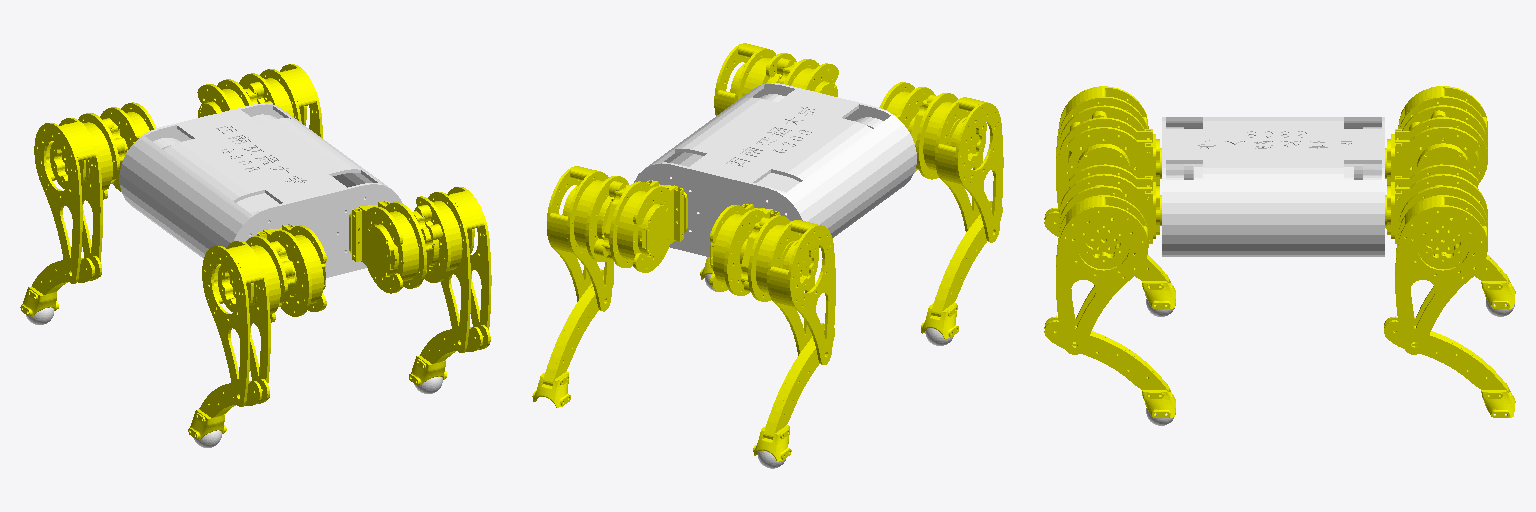
The robot description file, URDF, robot "g308_test4":
<?xml version="1.0" encoding="utf-8"?>
<!-- This URDF was automatically created by SolidWorks to URDF Exporter! Originally created by [author] ([email redacted]) 
     Commit Version: 1.6.0-4-g7f85cfe  Build Version: 1.6.7995.38578
     For more information, please see http://wiki.ros.org/sw_urdf_exporter -->
<robot
  name="g308_test4">
  <link
    name="base">
    <inertial>
      <origin
        xyz="-0.0461979664524284 -1.17681768195695E-05 0.0105492310143219"
        rpy="0 0 0" />
      <mass
        value="1.95581210125627" />
      <inertia
        ixx="0.0147778202660152"
        ixy="-1.05162781463562E-07"
        ixz="-1.09332218398281E-06"
        iyy="0.0125847623047929"
        iyz="1.48283341202784E-06"
        izz="0.0210875822494919" />
    </inertial>
    <visual>
      <origin
        xyz="0 0 0"
        rpy="0 0 0" />
      <geometry>
        <mesh
          filename="package://g308_test4/meshes/base.STL" />
      </geometry>
      <material
        name="">
        <color
          rgba="1 1 1 1" />
      </material>
    </visual>
    <collision>
      <origin
        xyz="0 0 0"
        rpy="0 0 0" />
      <geometry>
        <mesh
          filename="package://g308_test4/meshes/base.STL" />
      </geometry>
    </collision>
  </link>
  <link
    name="FL_hip">
    <inertial>
      <origin
        xyz="0.0116552172002281 2.25295518936925E-05 0.0109687547571238"
        rpy="0 0 0" />
      <mass
        value="0.318232651145697" />
      <inertia
        ixx="0.000421217912344398"
        ixy="-9.7756841130853E-09"
        ixz="-1.17456584713468E-08"
        iyy="0.000224000982737508"
        iyz="-2.58446117132676E-08"
        izz="0.000231734319828521" />
    </inertial>
    <visual>
      <origin
        xyz="0 0 0"
        rpy="0 0 0" />
      <geometry>
        <mesh
          filename="package://g308_test4/meshes/FL_hip.STL" />
      </geometry>
      <material
        name="">
        <color
          rgba="1 1 0 1" />
      </material>
    </visual>
    <collision>
      <origin
        xyz="0 0 0"
        rpy="0 0 0" />
      <geometry>
        <mesh
          filename="package://g308_test4/meshes/FL_hip.STL" />
      </geometry>
    </collision>
  </link>
  <joint
    name="FL_hip_joint"
    type="revolute">
    <origin
      xyz="-0.133706585889136 0.227700000000001 0.0123506153752162"
      rpy="1.5707963267949 0 0" />
    <parent
      link="base" />
    <child
      link="FL_hip" />
    <axis
      xyz="0 0 -1" />
    <limit
      lower="-3.14"
      upper="3.14"
      effort="20"
      velocity="10" />
  </joint>
  <link
    name="FL_thigh">
    <inertial>
      <origin
        xyz="0.00755809863982321 -0.00569509632056056 0.000848464541166216"
        rpy="0 0 0" />
      <mass
        value="0.478753525665284" />
      <inertia
        ixx="0.000799572117462148"
        ixy="4.14938306234336E-09"
        ixz="1.23600563290609E-08"
        iyy="0.000304445519109469"
        iyz="6.32109964884357E-05"
        izz="0.000522652052252059" />
    </inertial>
    <visual>
      <origin
        xyz="0 0 0"
        rpy="0 0 0" />
      <geometry>
        <mesh
          filename="package://g308_test4/meshes/FL_thigh.STL" />
      </geometry>
      <material
        name="">
        <color
          rgba="1 1 0 1" />
      </material>
    </visual>
    <collision>
      <origin
        xyz="0 0 0"
        rpy="0 0 0" />
      <geometry>
        <mesh
          filename="package://g308_test4/meshes/FL_thigh.STL" />
      </geometry>
    </collision>
  </link>
  <joint
    name="FL_thigh_joint"
    type="revolute">
    <origin
      xyz="-0.0674999999999899 0 0"
      rpy="0 0 0" />
    <parent
      link="FL_hip" />
    <child
      link="FL_thigh" />
    <axis
      xyz="1 0 0" />
    <limit
      lower="-3.14"
      upper="3.14"
      effort="20"
      velocity="10" />
  </joint>
  <link
    name="FL_calf">
    <inertial>
      <origin
        xyz="3.42754513094901E-05 -0.040020083745353 -0.0633313265646756"
        rpy="0 0 0" />
      <mass
        value="0.101165794083911" />
      <inertia
        ixx="0.000194608017998216"
        ixy="-1.30568603268147E-10"
        ixz="-1.99930744125421E-10"
        iyy="0.000141463572684114"
        iyz="-7.94426080977233E-05"
        izz="6.03690927040474E-05" />
    </inertial>
    <visual>
      <origin
        xyz="0 0 0"
        rpy="0 0 0" />
      <geometry>
        <mesh
          filename="package://g308_test4/meshes/FL_calf.STL" />
      </geometry>
      <material
        name="">
        <color
          rgba="1 1 0 1" />
      </material>
    </visual>
    <collision>
      <origin
        xyz="0 0 0"
        rpy="0 0 0" />
      <geometry>
        <mesh
          filename="package://g308_test4/meshes/FL_calf.STL" />
      </geometry>
    </collision>
  </link>
  <joint
    name="FL_calf_joint"
    type="revolute">
    <origin
      xyz="-0.0180000000000018 -0.144888873943371 0.0388228567653897"
      rpy="0 0 0" />
    <parent
      link="FL_thigh" />
    <child
      link="FL_calf" />
    <axis
      xyz="1 0 0" />
    <limit
      lower="-3.14"
      upper="3.14"
      effort="20"
      velocity="10" />
  </joint>
  <link
    name="FL_foot">
    <inertial>
      <origin
        xyz="3.00659323299035E-07 -0.000157836202697853 -1.34139065289807E-05"
        rpy="0 0 0" />
      <mass
        value="0.0324776231528867" />
      <inertia
        ixx="5.27515496642011E-06"
        ixy="1.52667443892797E-10"
        ixz="7.22783020602248E-12"
        iyy="5.19389260053744E-06"
        iyz="-2.63599504965102E-09"
        izz="5.22466745579372E-06" />
    </inertial>
    <visual>
      <origin
        xyz="0 0 0"
        rpy="0 0 0" />
      <geometry>
        <mesh
          filename="package://g308_test4/meshes/FL_foot.STL" />
      </geometry>
      <material
        name="">
        <color
          rgba="1 1 1 1" />
      </material>
    </visual>
    <collision>
      <origin
        xyz="0 0 0"
        rpy="0 0 0" />
      <geometry>
        <mesh
          filename="package://g308_test4/meshes/FL_foot.STL" />
      </geometry>
    </collision>
  </link>
  <joint
    name="FL_foot_joint"
    type="fixed">
    <origin
      xyz="0.000149999999999928 -0.106314214351297 -0.115518487694811"
      rpy="0 0 0" />
    <parent
      link="FL_calf" />
    <child
      link="FL_foot" />
    <axis
      xyz="0 0 0" />
  </joint>
  <link
    name="RL_hip">
    <inertial>
      <origin
        xyz="0.0116552172002268 -2.2529551893951E-05 -0.0109687547571238"
        rpy="0 0 0" />
      <mass
        value="0.318232651145697" />
      <inertia
        ixx="0.000421217912344398"
        ixy="9.77568411314133E-09"
        ixz="1.17456584710205E-08"
        iyy="0.000224000982737508"
        iyz="-2.58446117132447E-08"
        izz="0.000231734319828521" />
    </inertial>
    <visual>
      <origin
        xyz="0 0 0"
        rpy="0 0 0" />
      <geometry>
        <mesh
          filename="package://g308_test4/meshes/RL_hip.STL" />
      </geometry>
      <material
        name="">
        <color
          rgba="1 1 0 1" />
      </material>
    </visual>
    <collision>
      <origin
        xyz="0 0 0"
        rpy="0 0 0" />
      <geometry>
        <mesh
          filename="package://g308_test4/meshes/RL_hip.STL" />
      </geometry>
    </collision>
  </link>
  <joint
    name="RL_hip_joint"
    type="revolute">
    <origin
      xyz="-0.133706585889129 -0.2277 0.0120506153752187"
      rpy="1.5707963267949 0 0" />
    <parent
      link="base" />
    <child
      link="RL_hip" />
    <axis
      xyz="0 0 1" />
    <limit
      lower="-3.14"
      upper="3.14"
      effort="20"
      velocity="10" />
  </joint>
  <link
    name="RL_thigh">
    <inertial>
      <origin
        xyz="0.00755809863982393 -0.00569509632055179 0.000848464541168548"
        rpy="0 0 0" />
      <mass
        value="0.478753525665284" />
      <inertia
        ixx="0.00079957211746215"
        ixy="4.14938306249143E-09"
        ixz="1.23600563292477E-08"
        iyy="0.000304445519109471"
        iyz="6.32109964884358E-05"
        izz="0.000522652052252059" />
    </inertial>
    <visual>
      <origin
        xyz="0 0 0"
        rpy="0 0 0" />
      <geometry>
        <mesh
          filename="package://g308_test4/meshes/RL_thigh.STL" />
      </geometry>
      <material
        name="">
        <color
          rgba="1 1 0 1" />
      </material>
    </visual>
    <collision>
      <origin
        xyz="0 0 0"
        rpy="0 0 0" />
      <geometry>
        <mesh
          filename="package://g308_test4/meshes/RL_thigh.STL" />
      </geometry>
    </collision>
  </link>
  <joint
    name="RL_thigh_joint"
    type="revolute">
    <origin
      xyz="-0.0674999999999994 0 0"
      rpy="0 0 0" />
    <parent
      link="RL_hip" />
    <child
      link="RL_thigh" />
    <axis
      xyz="1 0 0" />
    <limit
      lower="-3.14"
      upper="3.14"
      effort="20"
      velocity="10" />
  </joint>
  <link
    name="RL_calf">
    <inertial>
      <origin
        xyz="3.42754513096288E-05 -0.0400200837453503 -0.0633313265646797"
        rpy="0 0 0" />
      <mass
        value="0.101165794083911" />
      <inertia
        ixx="0.000194608017998218"
        ixy="-1.30568603038773E-10"
        ixz="-1.99930743785512E-10"
        iyy="0.000141463572684123"
        iyz="-7.94426080977182E-05"
        izz="6.036909270404E-05" />
    </inertial>
    <visual>
      <origin
        xyz="0 0 0"
        rpy="0 0 0" />
      <geometry>
        <mesh
          filename="package://g308_test4/meshes/RL_calf.STL" />
      </geometry>
      <material
        name="">
        <color
          rgba="1 1 0 1" />
      </material>
    </visual>
    <collision>
      <origin
        xyz="0 0 0"
        rpy="0 0 0" />
      <geometry>
        <mesh
          filename="package://g308_test4/meshes/RL_calf.STL" />
      </geometry>
    </collision>
  </link>
  <joint
    name="RL_calf_joint"
    type="revolute">
    <origin
      xyz="-0.0180000000000004 -0.144888873943361 0.0388228567653868"
      rpy="0 0 0" />
    <parent
      link="RL_thigh" />
    <child
      link="RL_calf" />
    <axis
      xyz="1 0 0" />
    <limit
      lower="-3.14"
      upper="3.14"
      effort="20"
      velocity="10" />
  </joint>
  <link
    name="RL_foot">
    <inertial>
      <origin
        xyz="-3.97575039556841E-09 -0.000158405461231914 -1.23199536683494E-09"
        rpy="0 0 0" />
      <mass
        value="0.0324776231528866" />
      <inertia
        ixx="5.27515525323502E-06"
        ixy="-1.11411298083647E-13"
        ixz="2.27169126339279E-12"
        iyy="5.19366816295093E-06"
        iyz="1.25235730340677E-12"
        izz="5.22489160656526E-06" />
    </inertial>
    <visual>
      <origin
        xyz="0 0 0"
        rpy="0 0 0" />
      <geometry>
        <mesh
          filename="package://g308_test4/meshes/RL_foot.STL" />
      </geometry>
      <material
        name="">
        <color
          rgba="1 1 1 1" />
      </material>
    </visual>
    <collision>
      <origin
        xyz="0 0 0"
        rpy="0 0 0" />
      <geometry>
        <mesh
          filename="package://g308_test4/meshes/RL_foot.STL" />
      </geometry>
    </collision>
  </link>
  <joint
    name="RL_foot_joint"
    type="fixed">
    <origin
      xyz="0.000150000000000344 -0.106314214351312 -0.115518487694808"
      rpy="0 0 0" />
    <parent
      link="RL_calf" />
    <child
      link="RL_foot" />
    <axis
      xyz="0 0 0" />
  </joint>
  <link
    name="FR_hip">
    <inertial>
      <origin
        xyz="-0.0116552172002267 -3.68438686368499E-05 0.0109687547571236"
        rpy="0 0 0" />
      <mass
        value="0.318232651145697" />
      <inertia
        ixx="0.000421217912344398"
        ixy="-9.77568411311982E-09"
        ixz="1.17456584713419E-08"
        iyy="0.000224000982737508"
        iyz="2.58446117130885E-08"
        izz="0.000231734319828521" />
    </inertial>
    <visual>
      <origin
        xyz="0 0 0"
        rpy="0 0 0" />
      <geometry>
        <mesh
          filename="package://g308_test4/meshes/FR_hip.STL" />
      </geometry>
      <material
        name="">
        <color
          rgba="1 1 0 1" />
      </material>
    </visual>
    <collision>
      <origin
        xyz="0 0 0"
        rpy="0 0 0" />
      <geometry>
        <mesh
          filename="package://g308_test4/meshes/FR_hip.STL" />
      </geometry>
    </collision>
  </link>
  <joint
    name="FR_hip_joint"
    type="revolute">
    <origin
      xyz="0.0412934141108763 0.2277 0.0122006153752204"
      rpy="1.5707963267949 0 0" />
    <parent
      link="base" />
    <child
      link="FR_hip" />
    <axis
      xyz="0 0 -1" />
    <limit
      lower="-3.14"
      upper="3.14"
      effort="20"
      velocity="10" />
  </joint>
  <link
    name="FR_thigh">
    <inertial>
      <origin
        xyz="-0.00755809863982528 -0.00565194816744022 0.000873376138983611"
        rpy="0 0 0" />
      <mass
        value="0.478753525665284" />
      <inertia
        ixx="0.000799572117462149"
        ixy="1.27788143028068E-08"
        ixz="-2.58655702263551E-09"
        iyy="0.000304434334664584"
        iyz="6.32174538306935E-05"
        izz="0.000522663236696945" />
    </inertial>
    <visual>
      <origin
        xyz="0 0 0"
        rpy="0 0 0" />
      <geometry>
        <mesh
          filename="package://g308_test4/meshes/FR_thigh.STL" />
      </geometry>
      <material
        name="">
        <color
          rgba="1 1 0 1" />
      </material>
    </visual>
    <collision>
      <origin
        xyz="0 0 0"
        rpy="0 0 0" />
      <geometry>
        <mesh
          filename="package://g308_test4/meshes/FR_thigh.STL" />
      </geometry>
    </collision>
  </link>
  <joint
    name="FR_thigh_joint"
    type="revolute">
    <origin
      xyz="0.0675000000000023 0 0"
      rpy="0 0 0" />
    <parent
      link="FR_hip" />
    <child
      link="FR_thigh" />
    <axis
      xyz="-1 0 0" />
    <limit
      lower="-3.14"
      upper="3.14"
      effort="20"
      velocity="10" />
  </joint>
  <link
    name="FR_calf">
    <inertial>
      <origin
        xyz="3.42754513094345E-05 -0.0400200837453495 -0.063331326564677"
        rpy="0 0 0" />
      <mass
        value="0.10116579408391" />
      <inertia
        ixx="0.000194608017998216"
        ixy="-1.30568603327915E-10"
        ixz="-1.99930744177984E-10"
        iyy="0.000141463572684123"
        iyz="-7.9442608097719E-05"
        izz="6.0369092704038E-05" />
    </inertial>
    <visual>
      <origin
        xyz="0 0 0"
        rpy="0 0 0" />
      <geometry>
        <mesh
          filename="package://g308_test4/meshes/FR_calf.STL" />
      </geometry>
      <material
        name="">
        <color
          rgba="1 1 0 1" />
      </material>
    </visual>
    <collision>
      <origin
        xyz="0 0 0"
        rpy="0 0 0" />
      <geometry>
        <mesh
          filename="package://g308_test4/meshes/FR_calf.STL" />
      </geometry>
    </collision>
  </link>
  <joint
    name="FR_calf_joint"
    type="revolute">
    <origin
      xyz="0.0179999999999943 -0.14488887394336 0.0388228567653765"
      rpy="0 0 0" />
    <parent
      link="FR_thigh" />
    <child
      link="FR_calf" />
    <axis
      xyz="-1 0 0" />
    <limit
      lower="-3.14"
      upper="3.14"
      effort="20"
      velocity="10" />
  </joint>
  <link
    name="FR_foot">
    <inertial>
      <origin
        xyz="3.00659323326791E-07 -0.000157836202697964 -1.34139065288141E-05"
        rpy="0 0 0" />
      <mass
        value="0.0324776231528866" />
      <inertia
        ixx="5.27515496642011E-06"
        ixy="1.52667443887201E-10"
        ixz="7.2278302080268E-12"
        iyy="5.19389260053743E-06"
        iyz="-2.6359950496578E-09"
        izz="5.22466745579371E-06" />
    </inertial>
    <visual>
      <origin
        xyz="0 0 0"
        rpy="0 0 0" />
      <geometry>
        <mesh
          filename="package://g308_test4/meshes/FR_foot.STL" />
      </geometry>
      <material
        name="">
        <color
          rgba="1 1 1 1" />
      </material>
    </visual>
    <collision>
      <origin
        xyz="0 0 0"
        rpy="0 0 0" />
      <geometry>
        <mesh
          filename="package://g308_test4/meshes/FR_foot.STL" />
      </geometry>
    </collision>
  </link>
  <joint
    name="FR_foot_joint"
    type="fixed">
    <origin
      xyz="0.000149999999999789 -0.106314214351308 -0.115518487694804"
      rpy="0 0 0" />
    <parent
      link="FR_calf" />
    <child
      link="FR_foot" />
    <axis
      xyz="0 0 0" />
  </joint>
  <link
    name="RR_hip">
    <inertial>
      <origin
        xyz="-0.0116552172002267 3.68438686359253E-05 -0.0109687547571237"
        rpy="0 0 0" />
      <mass
        value="0.318232651145697" />
      <inertia
        ixx="0.000421217912344398"
        ixy="9.77568411311122E-09"
        ixz="-1.17456584712419E-08"
        iyy="0.000224000982737508"
        iyz="2.58446117130826E-08"
        izz="0.000231734319828521" />
    </inertial>
    <visual>
      <origin
        xyz="0 0 0"
        rpy="0 0 0" />
      <geometry>
        <mesh
          filename="package://g308_test4/meshes/RR_hip.STL" />
      </geometry>
      <material
        name="">
        <color
          rgba="1 1 0 1" />
      </material>
    </visual>
    <collision>
      <origin
        xyz="0 0 0"
        rpy="0 0 0" />
      <geometry>
        <mesh
          filename="package://g308_test4/meshes/RR_hip.STL" />
      </geometry>
    </collision>
  </link>
  <joint
    name="RR_hip_joint"
    type="revolute">
    <origin
      xyz="0.0412934141108729 -0.2277 0.0122006153752164"
      rpy="1.5707963267949 0 0" />
    <parent
      link="base" />
    <child
      link="RR_hip" />
    <axis
      xyz="0 0 1" />
    <limit
      lower="-3.14"
      upper="3.14"
      effort="20"
      velocity="10" />
  </joint>
  <link
    name="RR_thigh">
    <inertial>
      <origin
        xyz="-0.00755809863982285 -0.00633880260304969 0.00196339652760066"
        rpy="0 0 0" />
      <mass
        value="0.478753525665284" />
      <inertia
        ixx="0.000799572117462147"
        ixy="-1.27788143054523E-08"
        ixz="2.58655702322065E-09"
        iyy="0.000304434334664581"
        iyz="6.32174538306905E-05"
        izz="0.000522663236696946" />
    </inertial>
    <visual>
      <origin
        xyz="0 0 0"
        rpy="0 0 0" />
      <geometry>
        <mesh
          filename="package://g308_test4/meshes/RR_thigh.STL" />
      </geometry>
      <material
        name="">
        <color
          rgba="1 1 0 1" />
      </material>
    </visual>
    <collision>
      <origin
        xyz="0 0 0"
        rpy="0 0 0" />
      <geometry>
        <mesh
          filename="package://g308_test4/meshes/RR_thigh.STL" />
      </geometry>
    </collision>
  </link>
  <joint
    name="RR_thigh_joint"
    type="revolute">
    <origin
      xyz="0.0674999999999991 0 0"
      rpy="0 0 0" />
    <parent
      link="RR_hip" />
    <child
      link="RR_thigh" />
    <axis
      xyz="-1 0 0" />
    <limit
      lower="-3.14"
      upper="3.14"
      effort="20"
      velocity="10" />
  </joint>
  <link
    name="RR_calf">
    <inertial>
      <origin
        xyz="3.42754513118215E-05 -0.0400200837453511 -0.0633313265646774"
        rpy="0 0 0" />
      <mass
        value="0.101165794083911" />
      <inertia
        ixx="0.000194608017998217"
        ixy="-1.30568603454973E-10"
        ixz="-1.99930744363144E-10"
        iyy="0.000141463572684123"
        iyz="-7.94426080977183E-05"
        izz="6.03690927040393E-05" />
    </inertial>
    <visual>
      <origin
        xyz="0 0 0"
        rpy="0 0 0" />
      <geometry>
        <mesh
          filename="package://g308_test4/meshes/RR_calf.STL" />
      </geometry>
      <material
        name="">
        <color
          rgba="1 1 0 1" />
      </material>
    </visual>
    <collision>
      <origin
        xyz="0 0 0"
        rpy="0 0 0" />
      <geometry>
        <mesh
          filename="package://g308_test4/meshes/RR_calf.STL" />
      </geometry>
    </collision>
  </link>
  <joint
    name="RR_calf_joint"
    type="revolute">
    <origin
      xyz="0.0179999999999977 -0.144888873943359 0.0388228567653716"
      rpy="0 0 0" />
    <parent
      link="RR_thigh" />
    <child
      link="RR_calf" />
    <axis
      xyz="-1 0 0" />
    <limit
      lower="-3.14"
      upper="3.14"
      effort="20"
      velocity="10" />
  </joint>
  <link
    name="RR_foot">
    <inertial>
      <origin
        xyz="-3.97575009025708E-09 -0.000158405453709098 -1.23218241165901E-09"
        rpy="0 0 0" />
      <mass
        value="0.0324776231528866" />
      <inertia
        ixx="5.27515525323502E-06"
        ixy="-1.11411298191749E-13"
        ixz="2.2716912642438E-12"
        iyy="5.19366816295093E-06"
        iyz="1.25235730445715E-12"
        izz="5.22489160656526E-06" />
    </inertial>
    <visual>
      <origin
        xyz="0 0 0"
        rpy="0 0 0" />
      <geometry>
        <mesh
          filename="package://g308_test4/meshes/RR_foot.STL" />
      </geometry>
      <material
        name="">
        <color
          rgba="1 1 1 1" />
      </material>
    </visual>
    <collision>
      <origin
        xyz="0 0 0"
        rpy="0 0 0" />
      <geometry>
        <mesh
          filename="package://g308_test4/meshes/RR_foot.STL" />
      </geometry>
    </collision>
  </link>
  <joint
    name="RR_foot"
    type="fixed">
    <origin
      xyz="0.000150000000003925 -0.106314214361343 -0.115518487694555"
      rpy="0 0 0" />
    <parent
      link="RR_calf" />
    <child
      link="RR_foot" />
    <axis
      xyz="0 0 0" />
  </joint>
</robot>

--- What the picture shows (computed from the rendered views, not written in the file) ---
3 views of the same robot in one strip: view 1: azimuth 30°, elevation 25°; view 2: azimuth 150°, elevation 25°; view 3: azimuth 270°, elevation 25° (orthographic).
Robot: g308_test4 — 17 links, 16 joints (12 revolute, 4 fixed); root link base; default pose: every joint at zero.
Links seen in each view (by area): view 1: base, RL_thigh, FL_thigh, RR_thigh, RR_hip, RL_hip, FR_thigh, RL_calf, RR_calf, FL_calf, FR_hip, FL_hip; view 2: base, FL_thigh, RL_thigh, FR_thigh, FR_hip, FL_hip, RR_thigh, FL_calf, FR_calf, RL_calf, RR_hip, RL_hip; view 3: base, FR_thigh, RR_thigh, FL_hip, RL_hip, FR_calf, RR_calf, RL_thigh, RR_hip, FL_thigh, FR_hip, RL_calf (+1 smaller).
Link boxes in pixels (box(x1,y1,x2,y2)): base: box(119, 103, 402, 277); RL_thigh: box(202, 236, 295, 406); FL_thigh: box(34, 113, 127, 283); RR_thigh: box(412, 187, 491, 352); RR_hip: box(349, 201, 426, 293); RL_hip: box(256, 224, 326, 316); FR_thigh: box(239, 64, 322, 138); RL_calf: box(188, 379, 269, 439); RR_calf: box(409, 325, 490, 385); FL_calf: box(20, 256, 101, 316); FR_hip: box(197, 79, 251, 117); FL_hip: box(100, 102, 156, 191); base: box(634, 83, 916, 256); FL_thigh: box(741, 215, 835, 364); RL_thigh: box(911, 93, 1003, 242); FR_thigh: box(547, 166, 629, 311); FR_hip: box(609, 180, 687, 272); FL_hip: box(710, 204, 779, 295); RR_thigh: box(714, 43, 796, 115); FL_calf: box(753, 323, 834, 461); FR_calf: box(532, 269, 613, 407); RL_calf: box(921, 200, 1002, 338); RR_hip: box(784, 59, 838, 96); RL_hip: box(879, 82, 935, 171); base: box(1162, 117, 1384, 256); FR_thigh: box(1395, 185, 1487, 354); RR_thigh: box(1056, 185, 1148, 354); FL_hip: box(1385, 117, 1487, 189); RL_hip: box(1059, 117, 1161, 188); FR_calf: box(1384, 316, 1515, 417); RR_calf: box(1044, 316, 1175, 417); RL_thigh: box(1056, 86, 1148, 209); RR_hip: box(1059, 164, 1161, 243); FL_thigh: box(1398, 86, 1487, 151); FR_hip: box(1385, 164, 1487, 243); RL_calf: box(1044, 208, 1175, 308).
Size in the robot's own frame: 0.392 by 0.632 by 0.3339 metres.
Meshes: 17 distinct files referenced, 16 mesh visuals loaded (16 binary STL); not drawn: 1 (reference not matched to a file when rendering).
